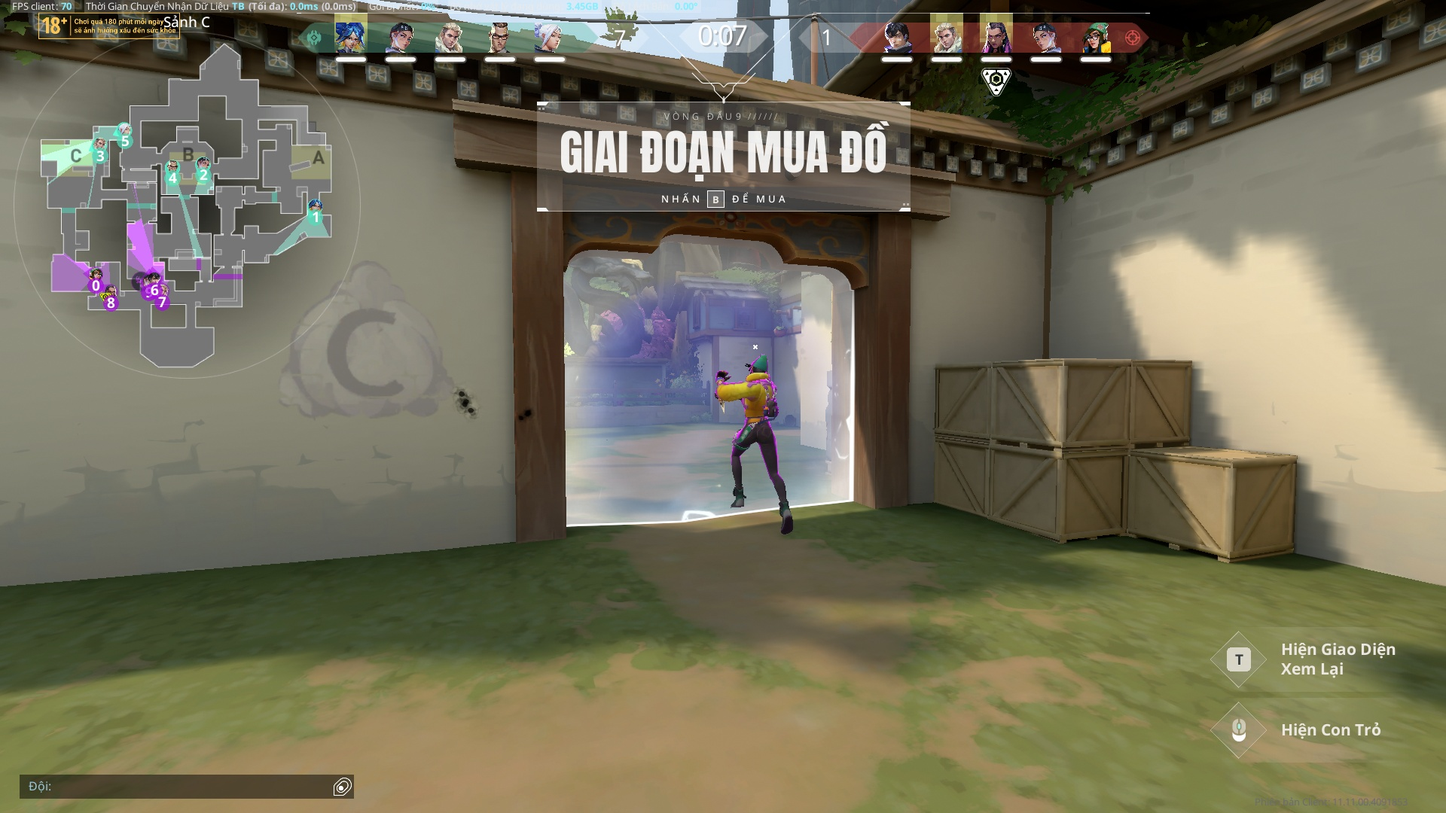body: (734, 370, 773, 413)
head: (747, 358, 767, 376)
